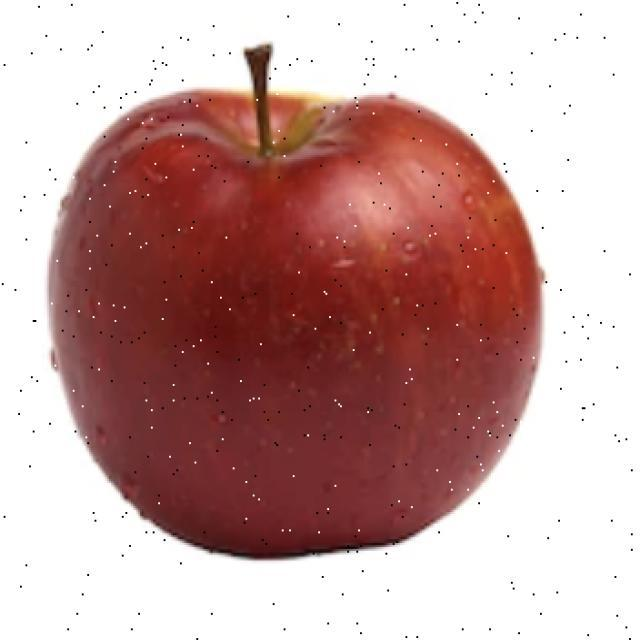Fresh Apple: (59, 89, 558, 554)
